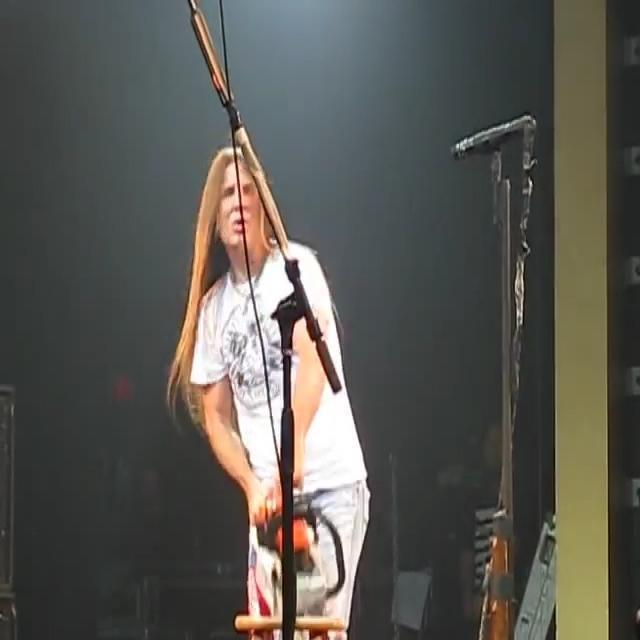Chainsaw: (245, 486, 348, 640)
